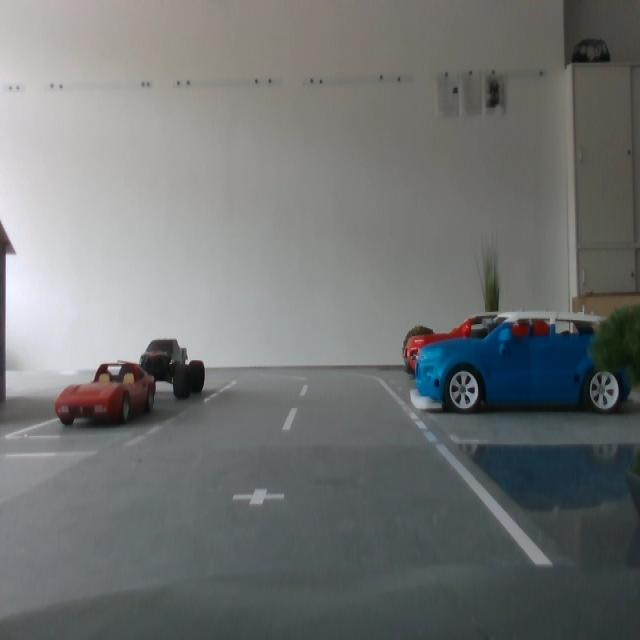car: (415, 311, 632, 415), (55, 361, 156, 426), (140, 339, 206, 399)
potted plant: (590, 304, 640, 518), (474, 234, 502, 352), (403, 326, 437, 377)
